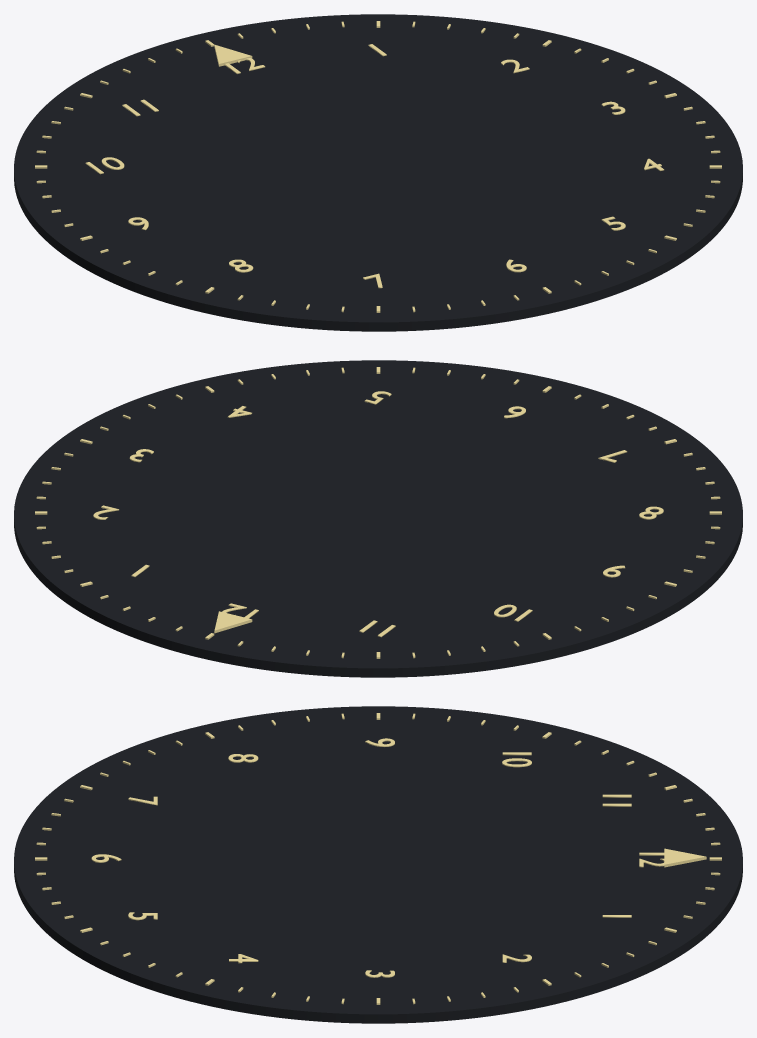
The model's file is dial-pilot.glb.
3 views of the same model, one above another, from view 1: azimuth 30°, elevation 25°; view 2: azimuth 150°, elevation 25°; view 3: azimuth 270°, elevation 25° (orthographic).
Visible parts, largest first — view 1: DD_ARCH_DIAL_FACE; view 2: DD_ARCH_DIAL_FACE; view 3: DD_ARCH_DIAL_FACE.
Part boxes in pixels (<box>): DD_ARCH_DIAL_FACE: <box>14,14,742,331</box>; DD_ARCH_DIAL_FACE: <box>14,360,742,677</box>; DD_ARCH_DIAL_FACE: <box>14,706,742,1023</box>.
Size of the model in its own units: 28.5 by 0.56 by 28.5.
